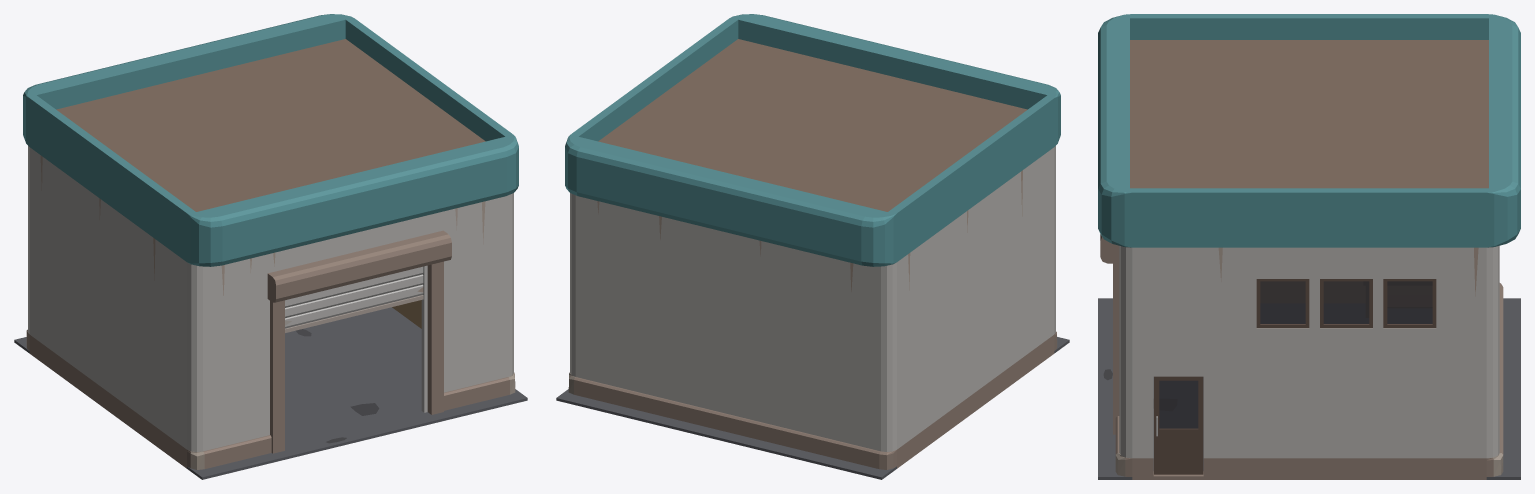
Rendered from service-bay-garage-aaf8e0.glb.
The picture shows the model from 3 angles, left to right: view 1: azimuth 30°, elevation 25°; view 2: azimuth 150°, elevation 25°; view 3: azimuth 270°, elevation 25°; orthographic projection. The views are drawn at different scales.
Parts seen in each view (by area): view 1: garage; view 2: garage; view 3: garage, garage-glass, side-door-leaf, side-door-leaf-glass.
Boxes of the visible parts, x1,y1,x2,y2 form: garage: [14, 14, 527, 479]; garage: [556, 14, 1069, 479]; garage: [1098, 14, 1520, 479]; garage-glass: [1260, 281, 1432, 323]; side-door-leaf: [1154, 376, 1203, 474]; side-door-leaf-glass: [1159, 380, 1198, 428].
Bounding box in the file's own units: 8 × 6 × 8.
